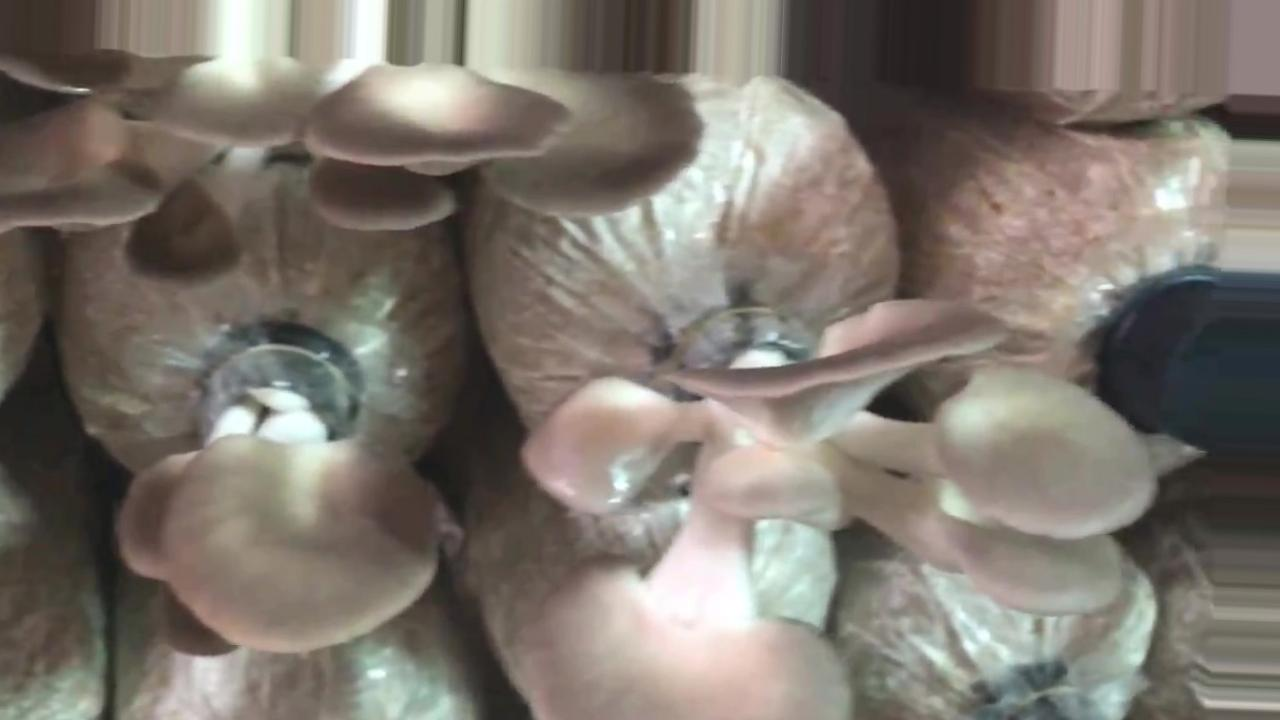nam: (507, 289, 1160, 720), (1, 44, 711, 291), (118, 317, 443, 663)
